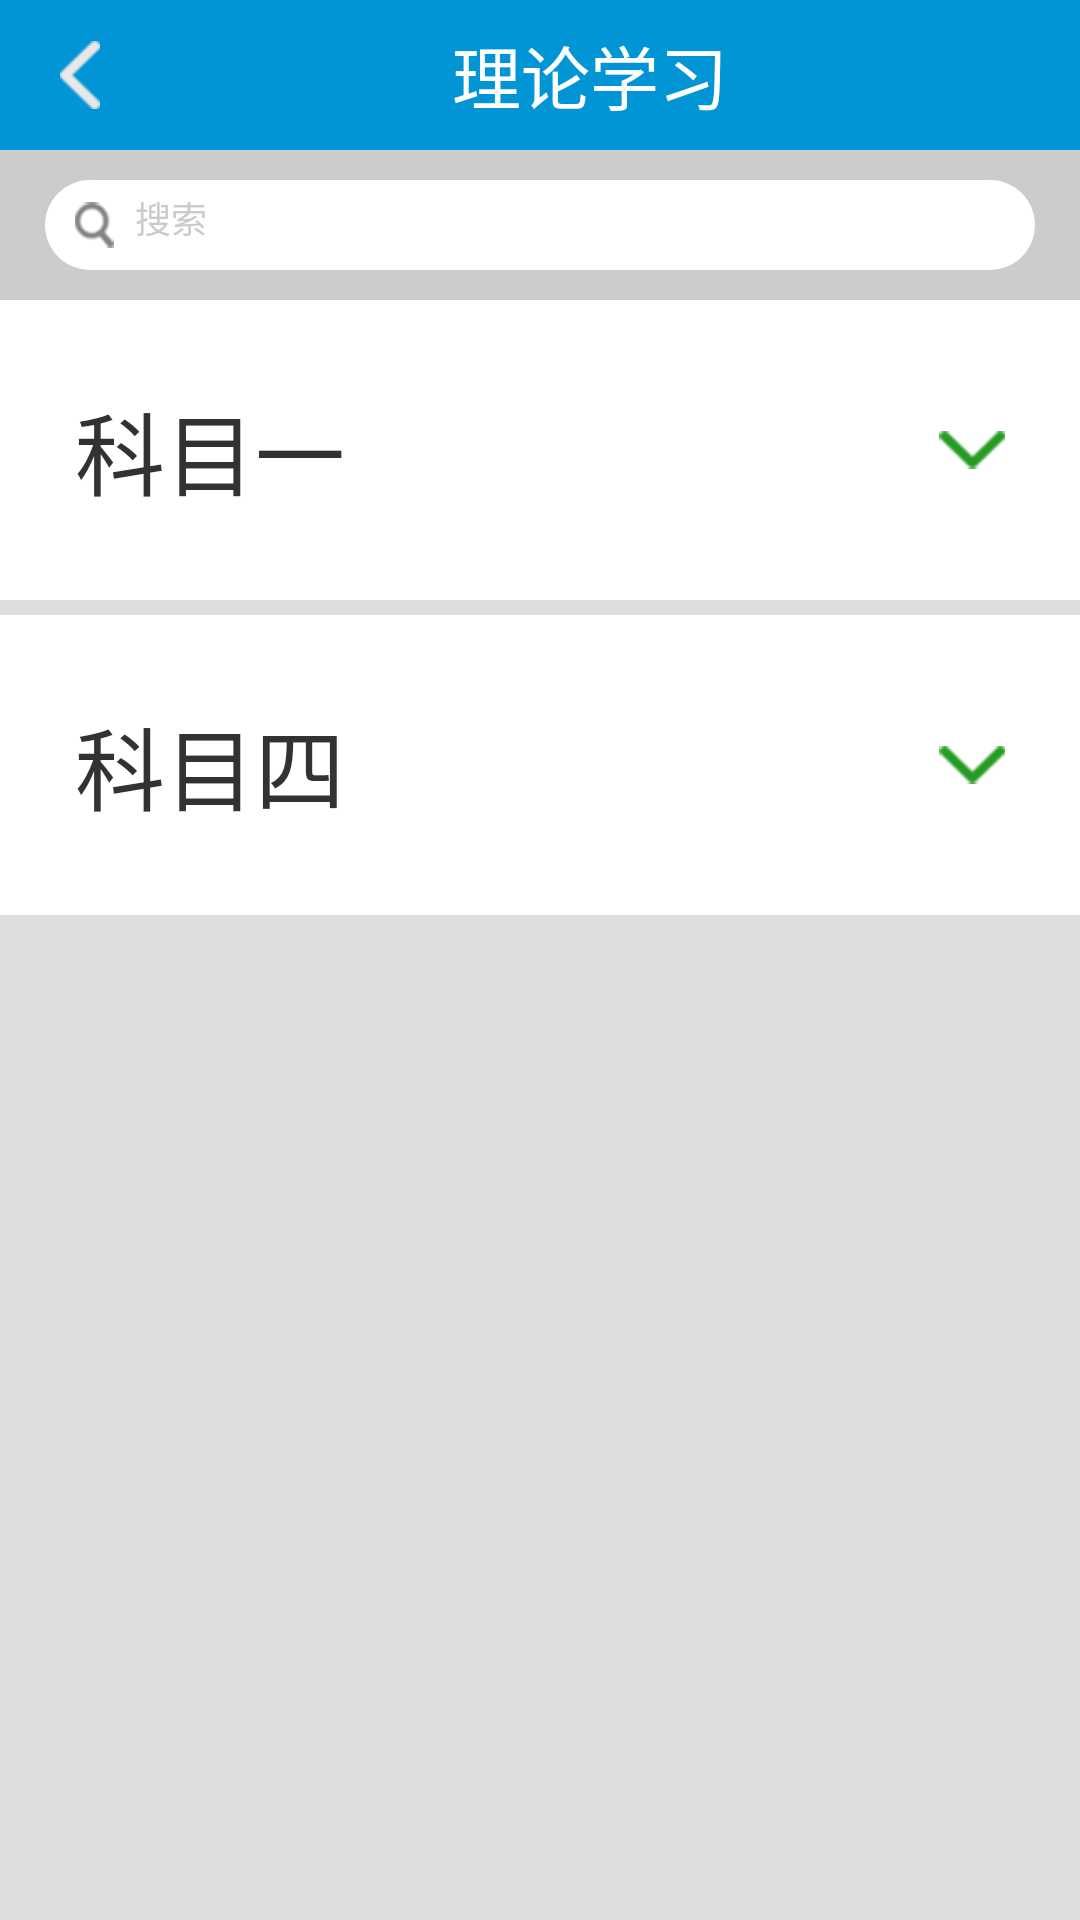

Icon click points for this 1080px×1920px phone screenshot, format [x,y]:
arrow down: [972,450], [972,765]
arrow left: [80,75]
